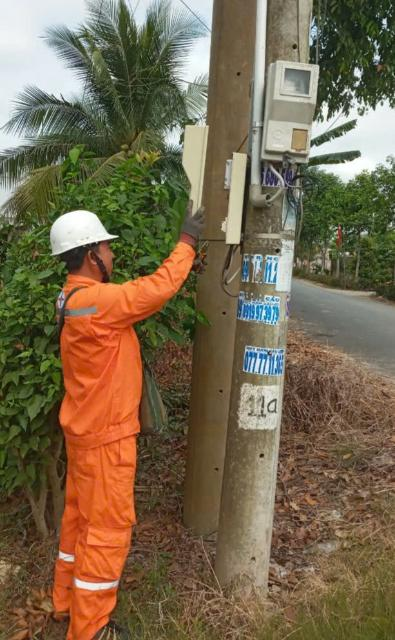gloves: (180, 199, 206, 255)
helmet: (41, 209, 136, 253)
shoes: (79, 621, 161, 640), (50, 591, 100, 620)
